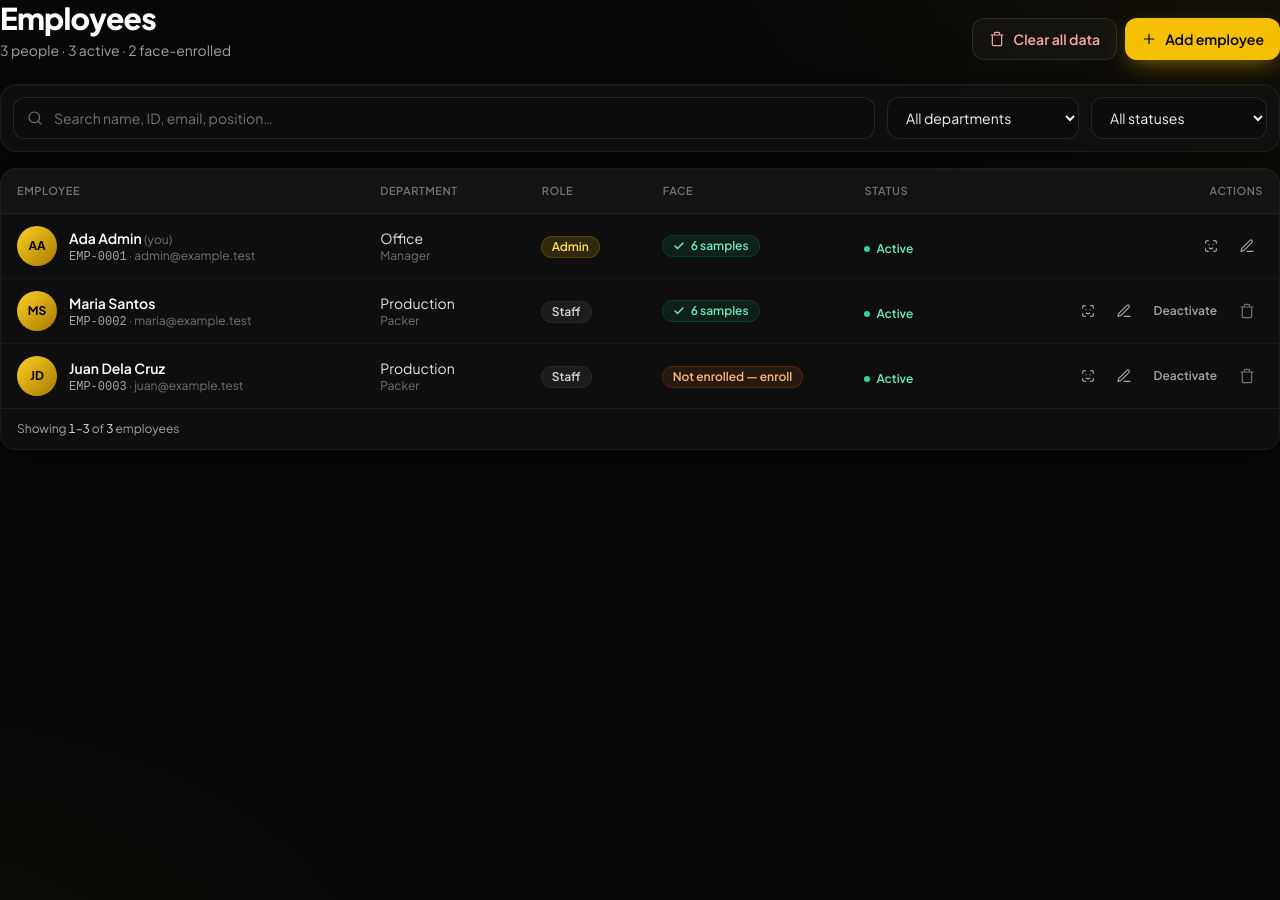
Scenario: Employees page › requires a password before turning a staff member into a kiosk device account
Expected: the text "Juan Dela Cruz" is shown, [69,358,165,376]
Click the button named "Edit Juan Dela Cruz".
click(1124, 376)  # box [1108,360,1140,392]
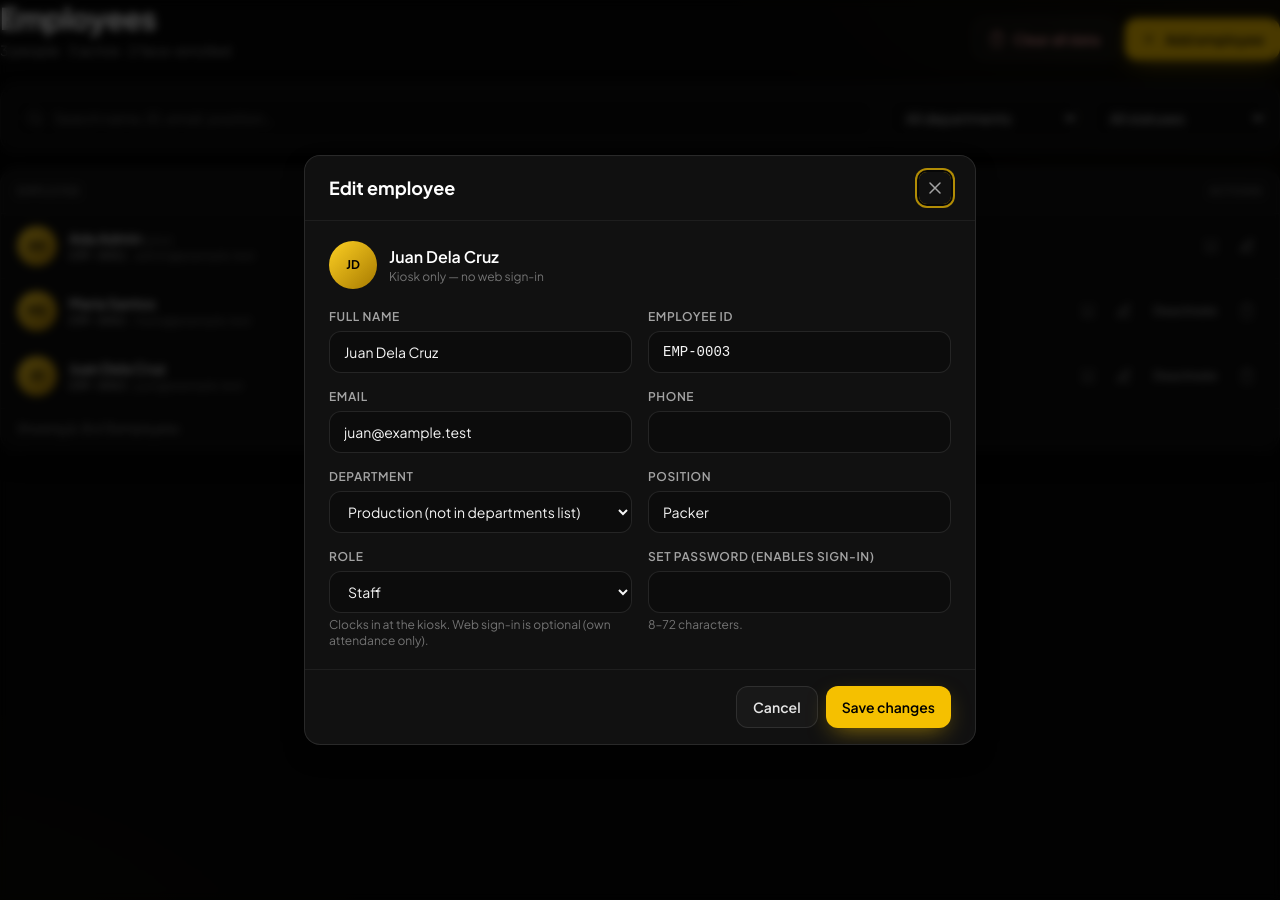
Select "Kiosk device" in the dropdown labelled "Role" at (480, 592), box [329,571,632,613]
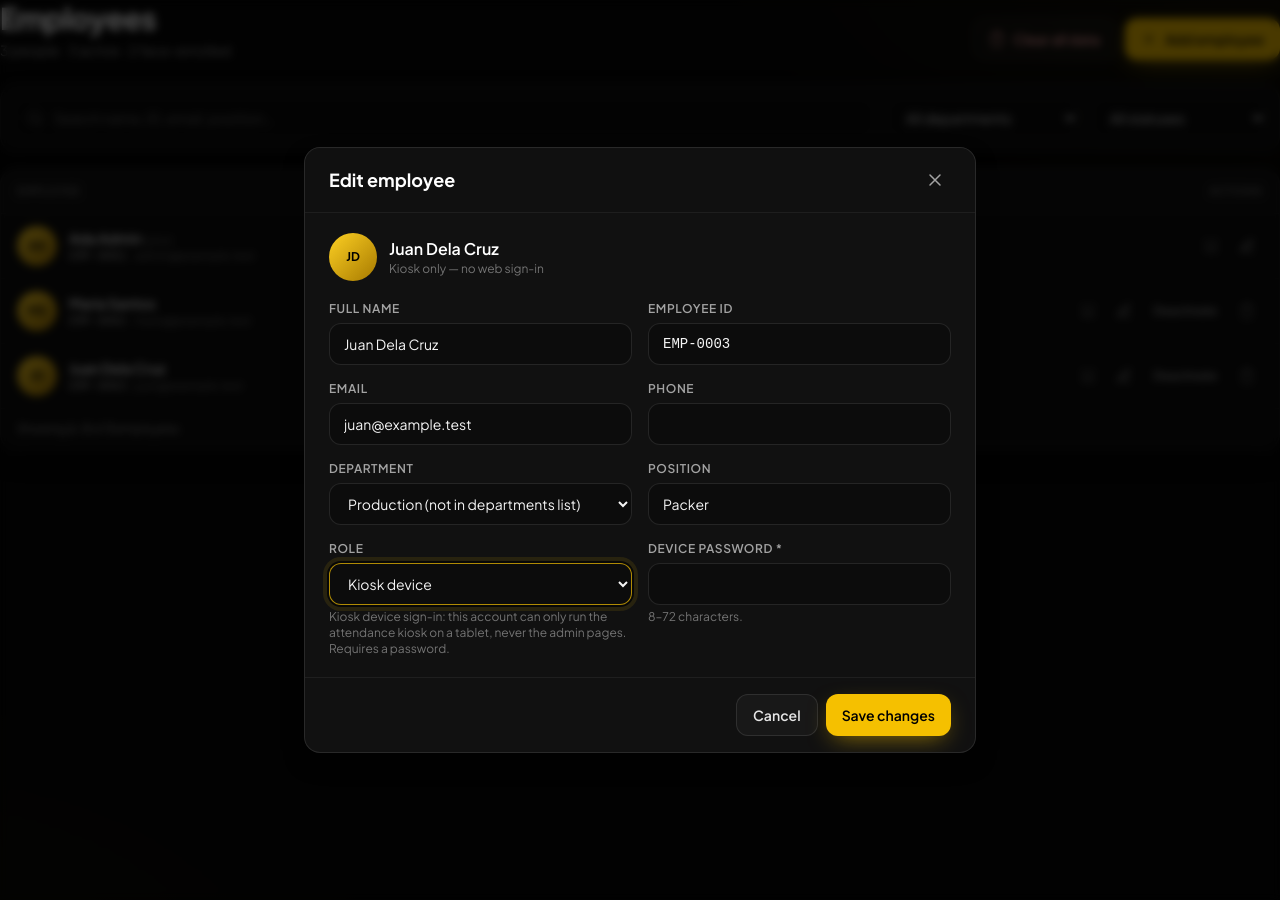
Expected: the text "can only run the attendance kiosk" is shown, [329,609,626,656]
Click the button "Save changes".
click(888, 715)  # box [826,694,951,736]
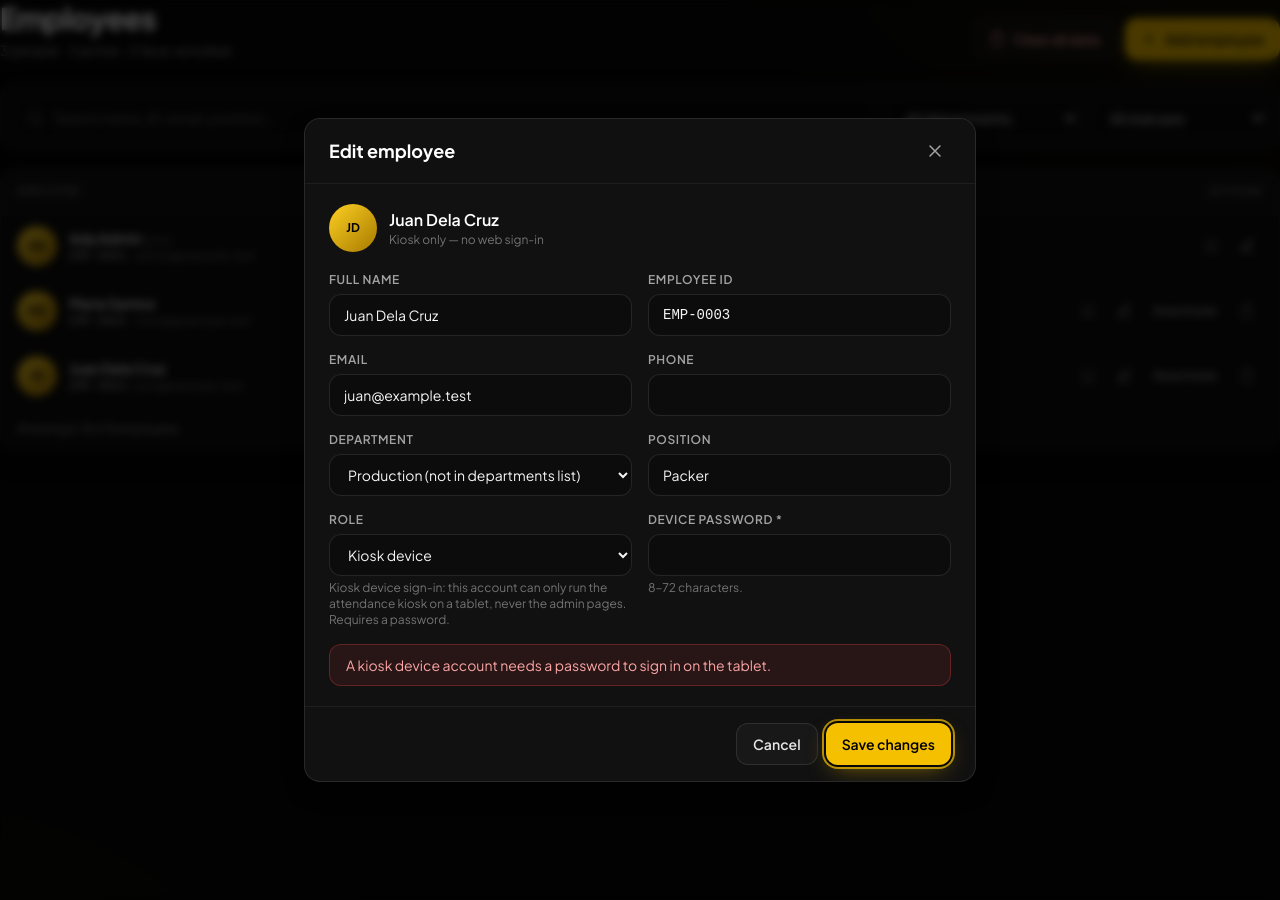
Expected: the text "A kiosk device account needs a password to sign in on the tablet." is shown, [329,644,951,686]
